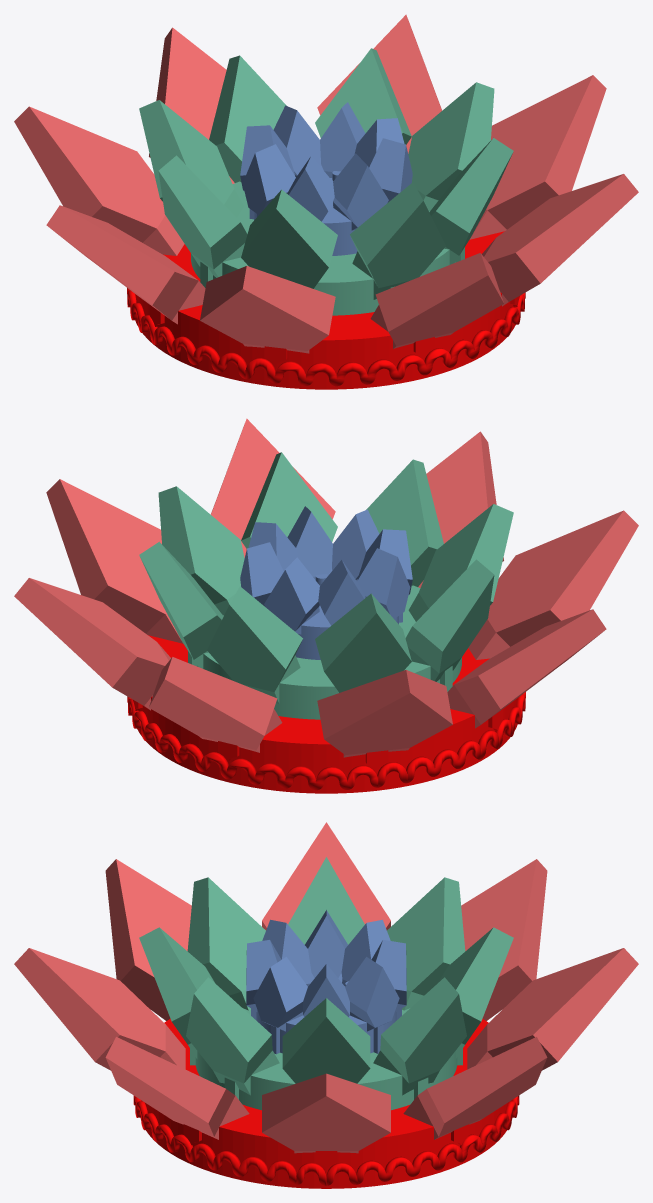
File: 9.3.25_Lotus.glb
3 renders of one model, top to bottom at view 1: azimuth 30°, elevation 25°; view 2: azimuth 150°, elevation 25°; view 3: azimuth 270°, elevation 25°, orthographic. The views are drawn at different scales.
Parts seen in each view (by area): view 1: 3DGeom-3 (×8), 3DGeom-22 (×8), 3DGeom-39 (×8), 3DGeom-1, 3DGeom-11 (×2), 3DGeom-21, 3DGeom-38; view 2: 3DGeom-3 (×8), 3DGeom-22 (×8), 3DGeom-39 (×8), 3DGeom-1, 3DGeom-11 (×2), 3DGeom-21, 3DGeom-38; view 3: 3DGeom-3 (×8), 3DGeom-22 (×8), 3DGeom-39 (×8), 3DGeom-1, 3DGeom-11 (×2), 3DGeom-21, 3DGeom-38.
Boxes of the visible parts, bbox=[...] form: 3DGeom-3 (×8): bbox=[14, 14, 638, 353]; 3DGeom-22 (×8): bbox=[139, 48, 513, 299]; 3DGeom-39 (×8): bbox=[240, 102, 412, 230]; 3DGeom-1: bbox=[135, 231, 515, 389]; 3DGeom-11 (×2): bbox=[127, 288, 525, 386]; 3DGeom-21: bbox=[191, 181, 455, 315]; 3DGeom-38: bbox=[254, 164, 357, 255]; 3DGeom-3 (×8): bbox=[14, 418, 638, 757]; 3DGeom-22 (×8): bbox=[139, 452, 513, 703]; 3DGeom-39 (×8): bbox=[240, 506, 412, 634]; 3DGeom-1: bbox=[137, 635, 517, 793]; 3DGeom-11 (×2): bbox=[127, 692, 525, 790]; 3DGeom-21: bbox=[197, 585, 461, 719]; 3DGeom-38: bbox=[295, 568, 398, 659]; 3DGeom-3 (×8): bbox=[14, 822, 638, 1153]; 3DGeom-22 (×8): bbox=[139, 857, 513, 1095]; 3DGeom-39 (×8): bbox=[246, 910, 406, 1031]; 3DGeom-1: bbox=[140, 1018, 512, 1188]; 3DGeom-11 (×2): bbox=[133, 1095, 519, 1185]; 3DGeom-21: bbox=[195, 1008, 457, 1110]; 3DGeom-38: bbox=[256, 973, 396, 1053].
Size of the model in its own units: 0.0848 by 0.0274 by 0.0848.
